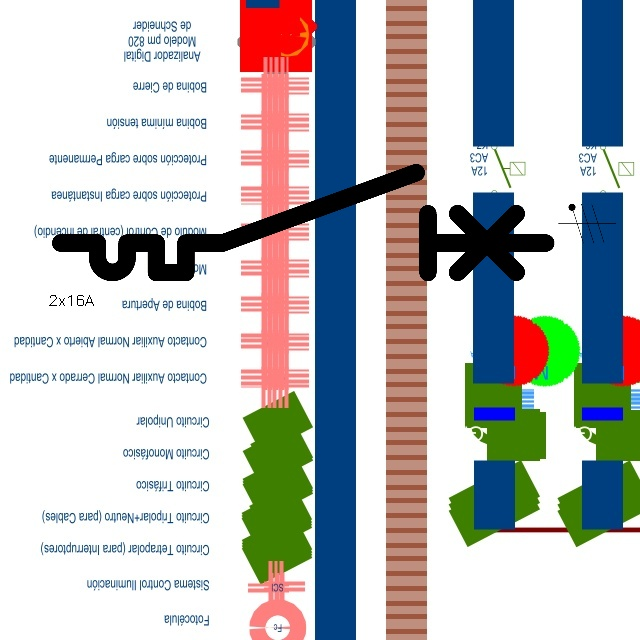interruptor_termomagnetico: (48, 160, 558, 285)
